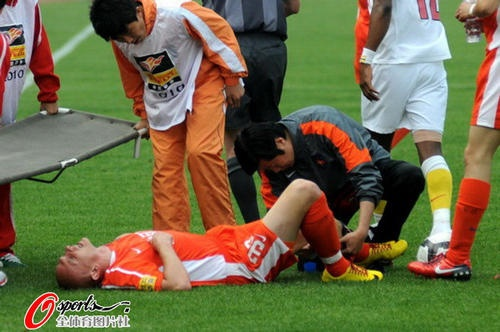falling: (43, 178, 411, 292)
